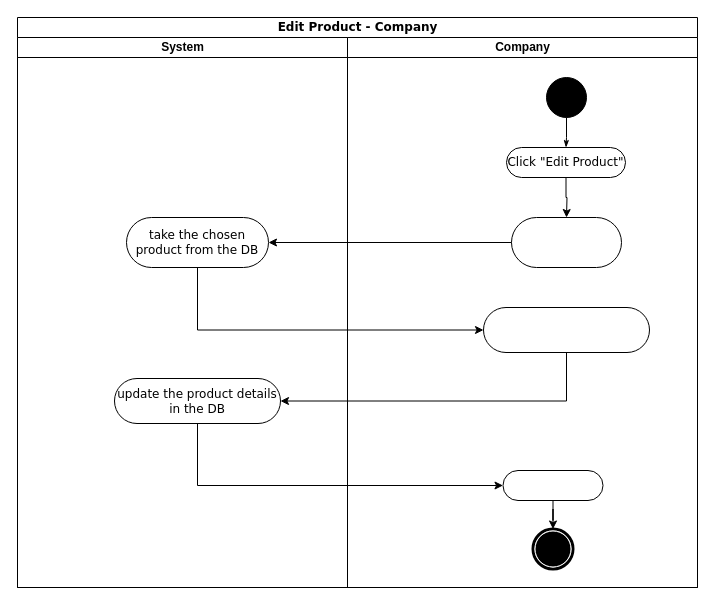
This 715x605 diagram has some shape labels left out. The centre of each missing label's shape, as x and y in pixels:
Click "Edit" on the product you want to edit: (566,242)
do stuff: (552,485)
enter the new details of the product: (566,329)
